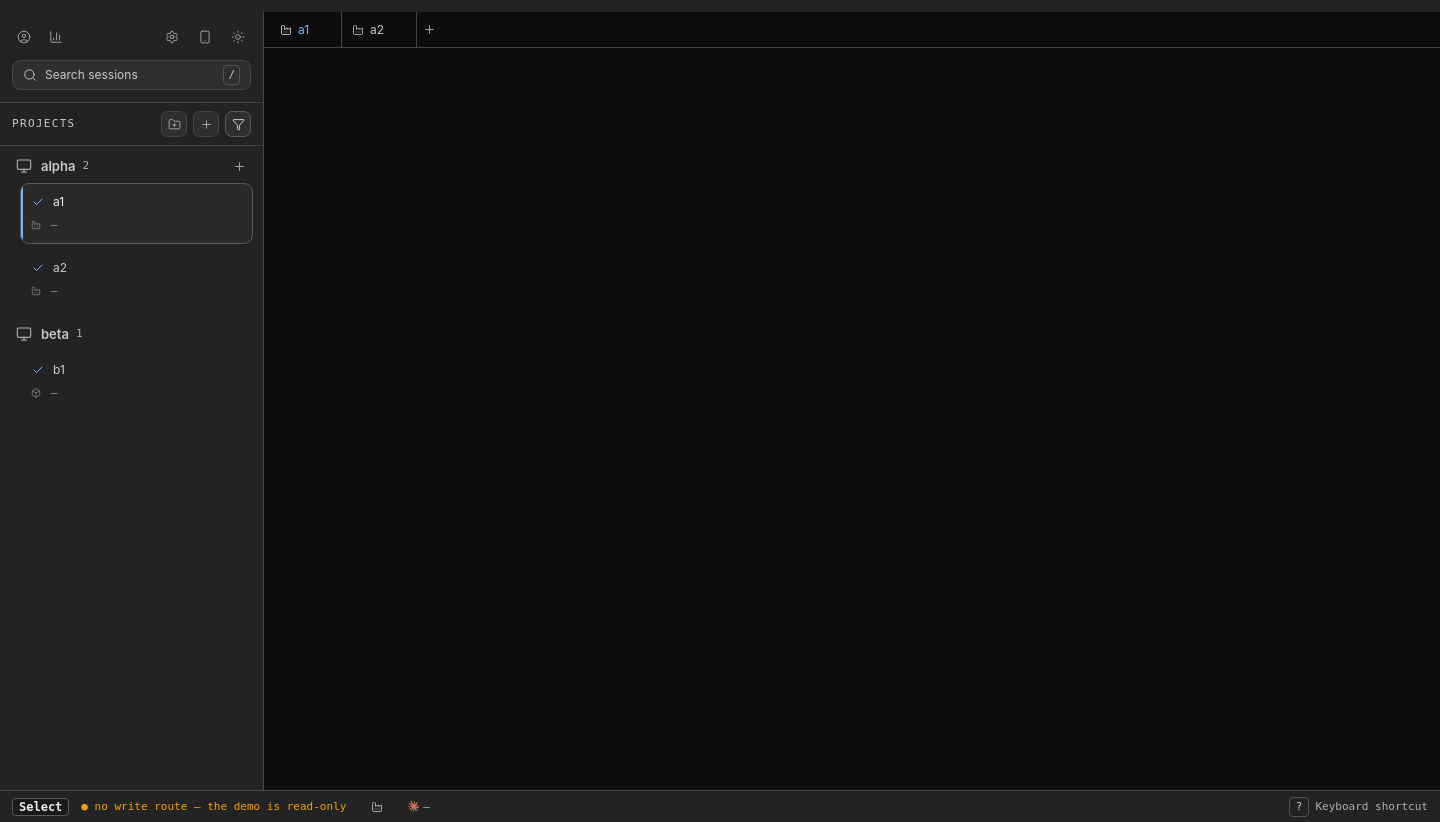
the sidebar › offers adding a session, and says plainly that THIS source cannot
The width and height of the screenshot is (1440, 822).
Click the button named "new session in alpha". click: (240, 166)
box: x1=230 y1=156 x2=249 y2=176
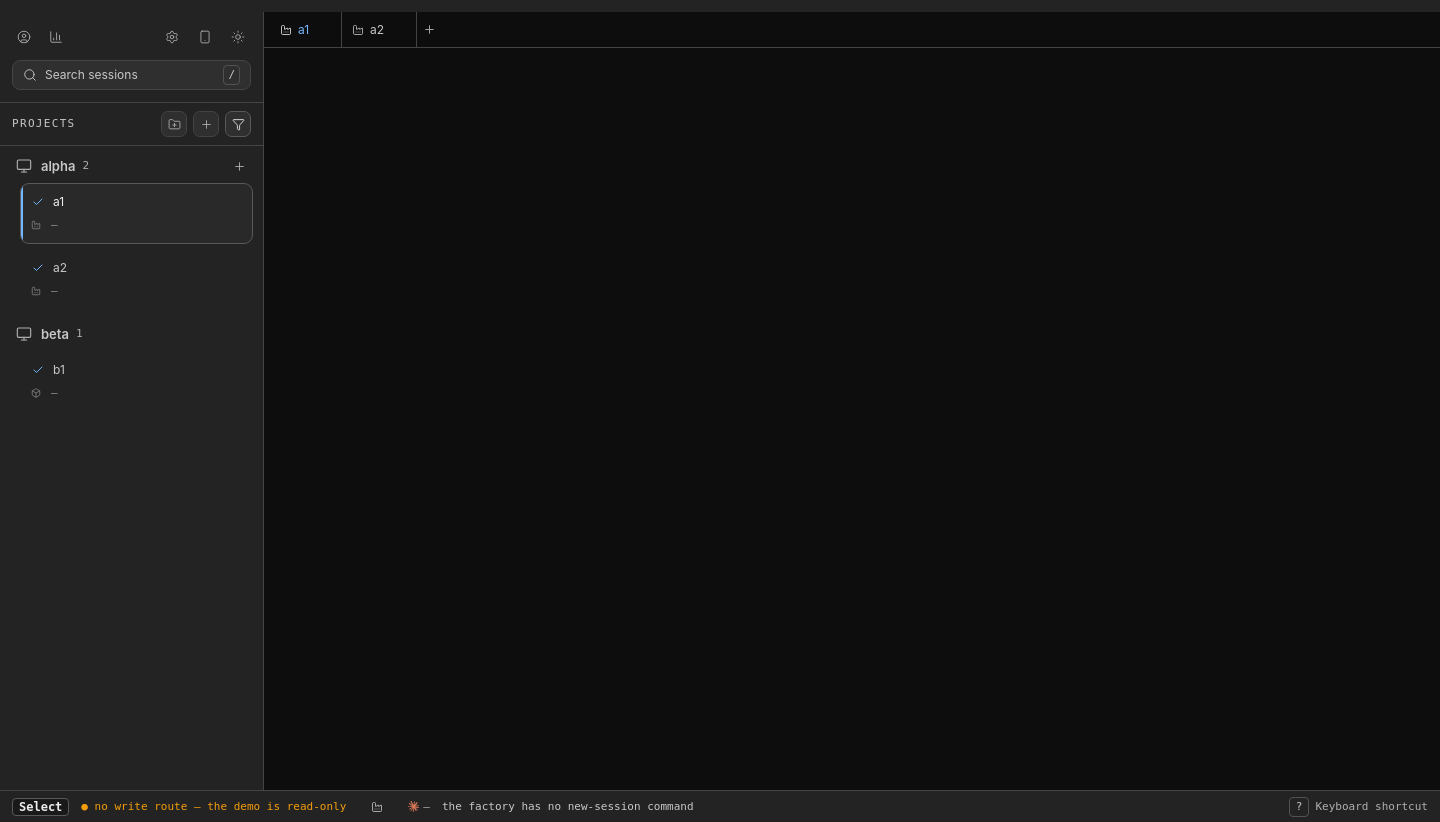
Expected: the text "the factory has no new-session command" is shown, x1=442 y1=798 x2=694 y2=814
